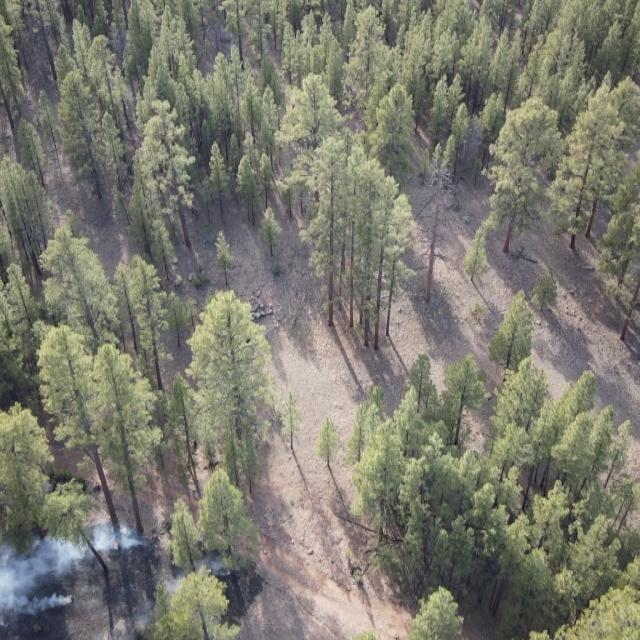fire: (110, 540, 122, 550)
smoke: (0, 520, 149, 631), (150, 557, 230, 611)
